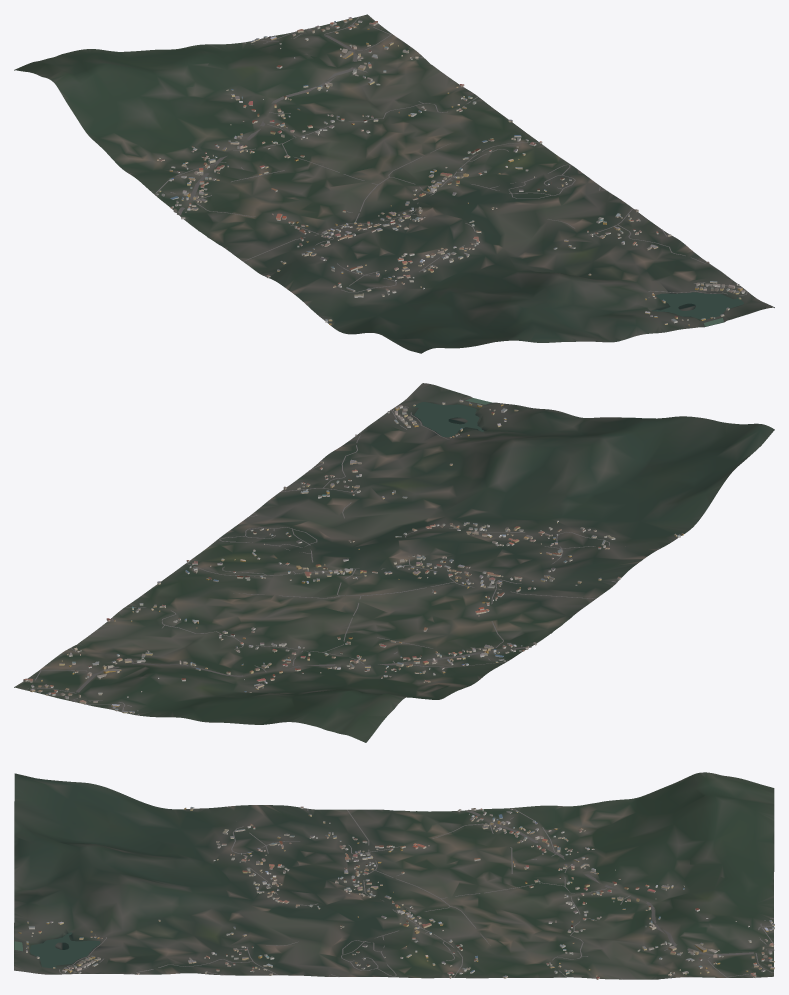
3 renders of one model, top to bottom at view 1: azimuth 30°, elevation 25°; view 2: azimuth 150°, elevation 25°; view 3: azimuth 270°, elevation 25°, orthographic. The views are drawn at different scales.
Parts seen in each view (by area): view 1: ground, buildings, roads, water; view 2: ground, buildings, roads, water; view 3: ground, buildings, roads, water.
Part boxes in pixels (left/top/right/bottom): ground: left=14, top=14, right=774, bottom=353; buildings: left=156, top=17, right=745, bottom=325; roads: left=155, top=17, right=747, bottom=305; water: left=652, top=292, right=743, bottom=326; ground: left=14, top=383, right=774, bottom=742; buildings: left=23, top=399, right=683, bottom=713; roads: left=23, top=406, right=659, bottom=715; water: left=412, top=398, right=491, bottom=437; ground: left=14, top=772, right=774, bottom=979; buildings: left=18, top=806, right=774, bottom=979; roads: left=59, top=806, right=774, bottom=979; water: left=14, top=932, right=100, bottom=967.
Bounding box in the file's own units: 1416 × 200 × 2808.
